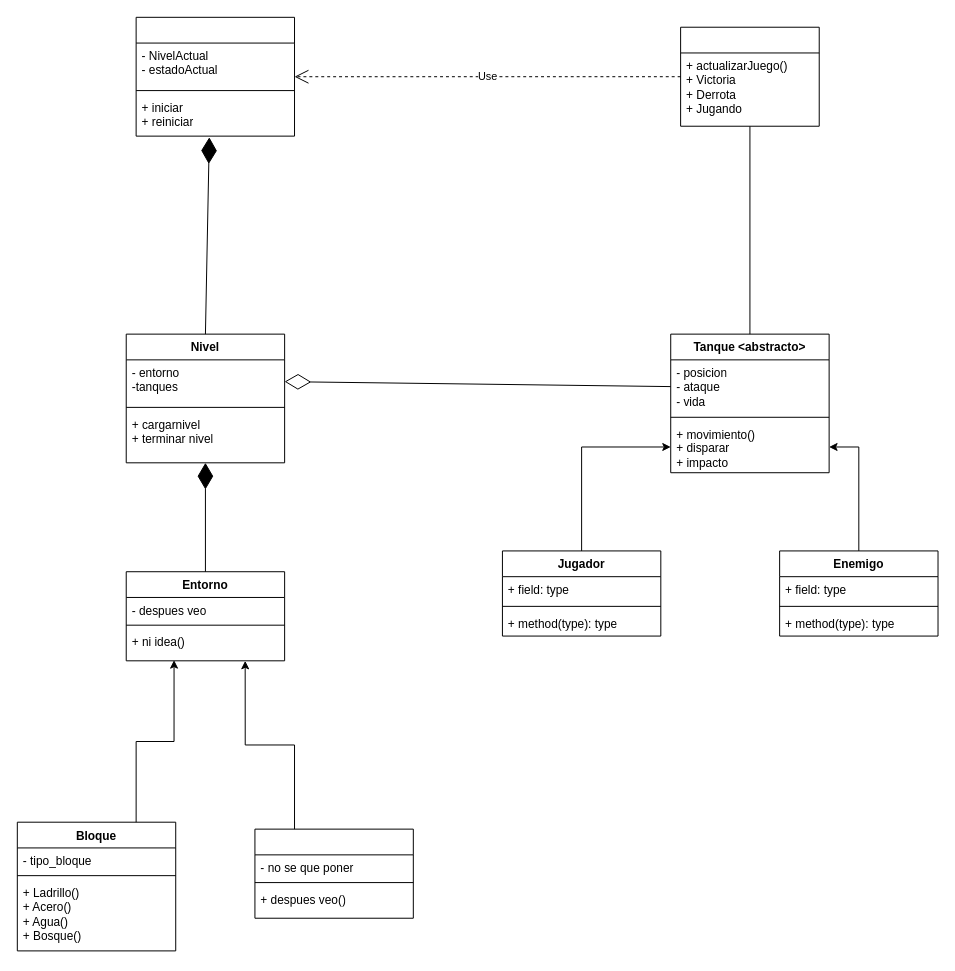
Image size: 955x971. Some labels were removed from this diagram. Each missing label, with the box of its shape:
Base: (254, 828, 413, 918)
Juego: (135, 16, 295, 136)
«interface» Estado: (680, 26, 819, 126)
